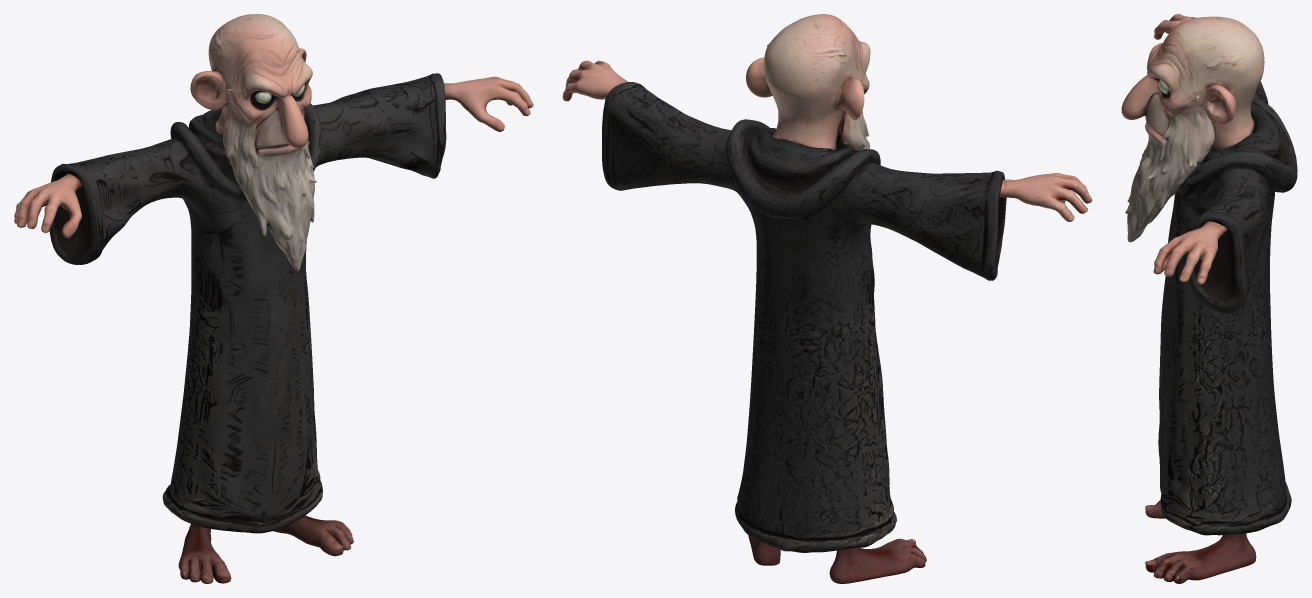
Rendered from drill_prophet.glb.
3 renders of one model, left to right at view 1: azimuth 30°, elevation 25°; view 2: azimuth 150°, elevation 25°; view 3: azimuth 270°, elevation 25°, orthographic.
Parts seen in each view (by area): view 1: drill_prophet; view 2: drill_prophet; view 3: drill_prophet.
Part boxes in pixels (x1,y1,x2,y2): drill_prophet: (14, 14, 533, 583); drill_prophet: (562, 14, 1092, 583); drill_prophet: (1121, 14, 1297, 583).
Size of the model in its own units: 2.24 by 2.2 by 0.6667.
1 material, 1 textured.
